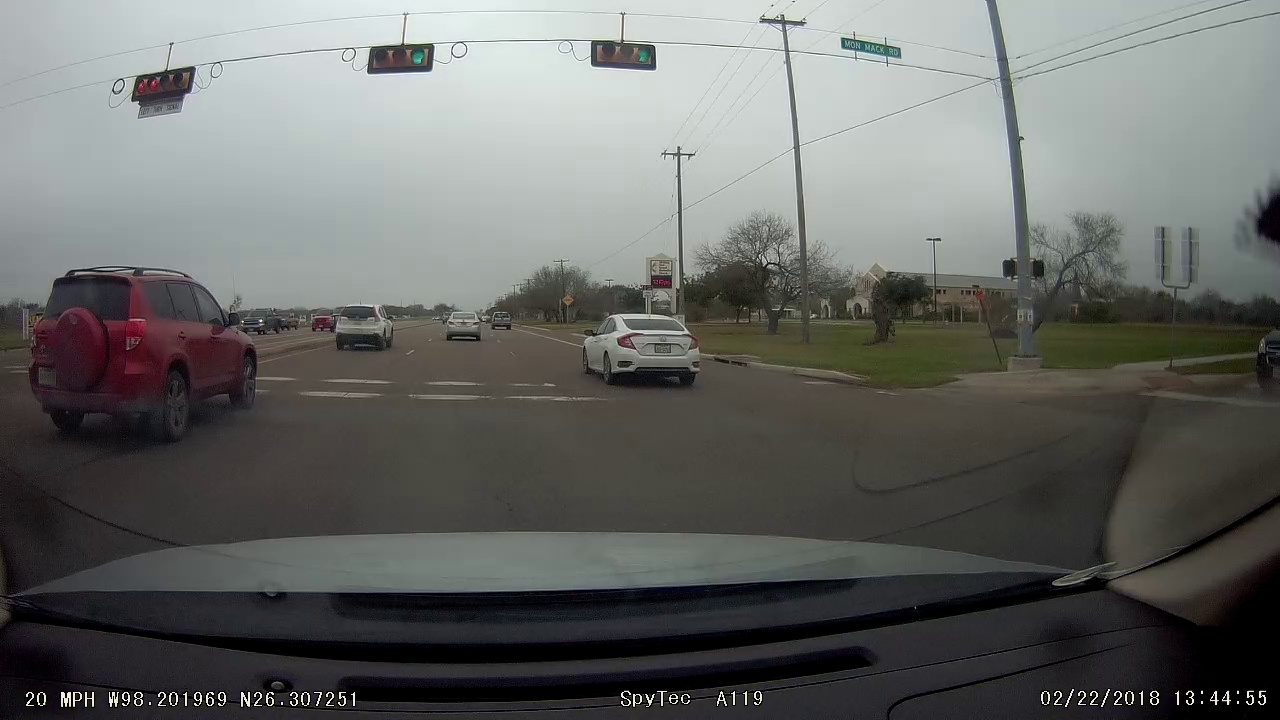blurredLine: (270, 374, 591, 405)
